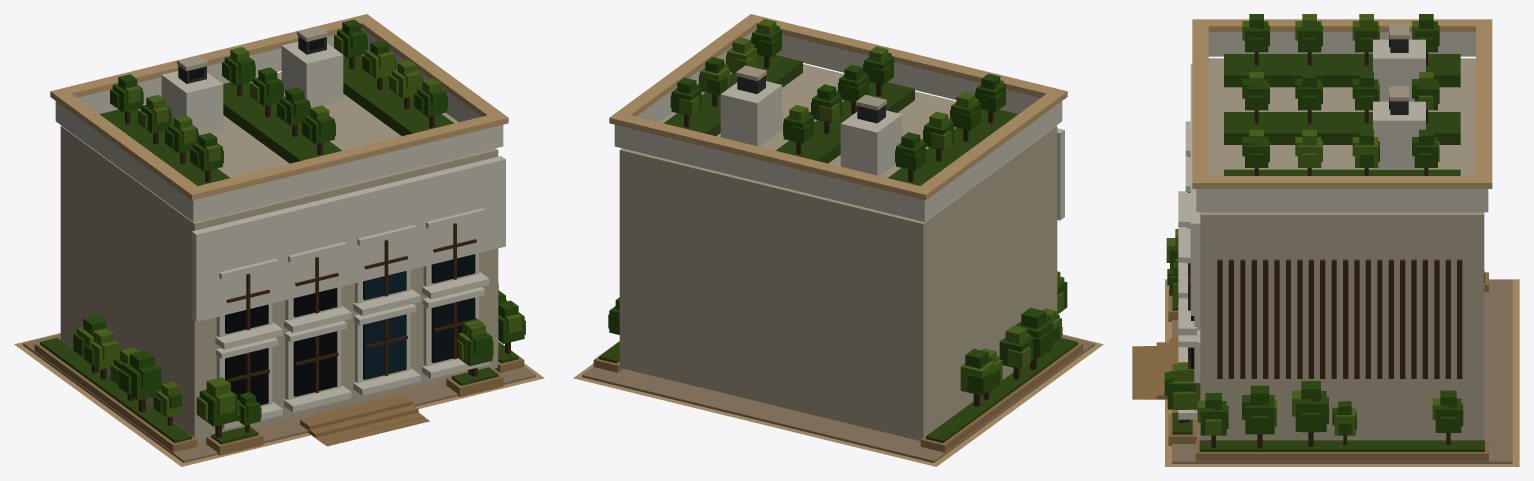
File: SM_Mapa_014.fbx
3 views of the same model, side by side, from view 1: azimuth 30°, elevation 25°; view 2: azimuth 150°, elevation 25°; view 3: azimuth 270°, elevation 25° (orthographic). The views are drawn at different scales.
Visible parts, largest first — view 1: SM_Mapa_014; view 2: SM_Mapa_014; view 3: SM_Mapa_014.
Boxes of the visible parts, x1,y1,x2,y2 form: SM_Mapa_014: [14, 14, 544, 466]; SM_Mapa_014: [573, 14, 1103, 466]; SM_Mapa_014: [1132, 14, 1519, 466].
Size of the model in its own units: 24 by 20.77 by 18.48.
